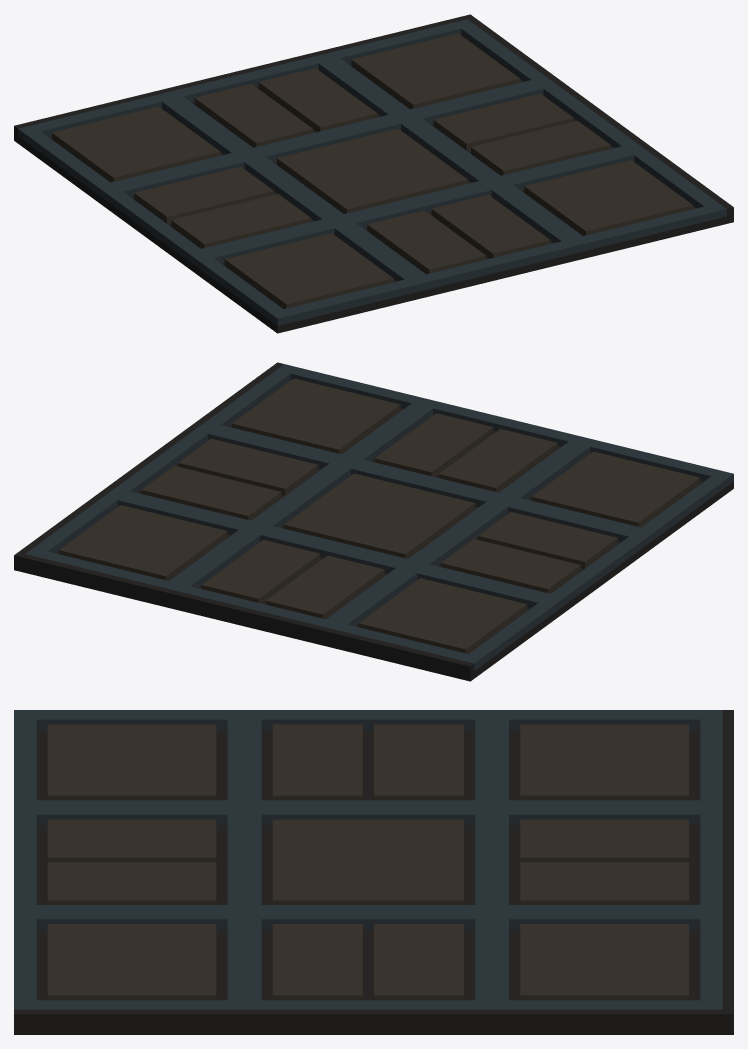
File: e_corridor_point_centrum.obj
3 views of the same model, one above another, from view 1: azimuth 30°, elevation 25°; view 2: azimuth 150°, elevation 25°; view 3: azimuth 270°, elevation 25° (orthographic). The views are drawn at different scales.
Bounding box in the file's own units: 6.4 × 0.2 × 6.4.
1 material, 1 textured.
